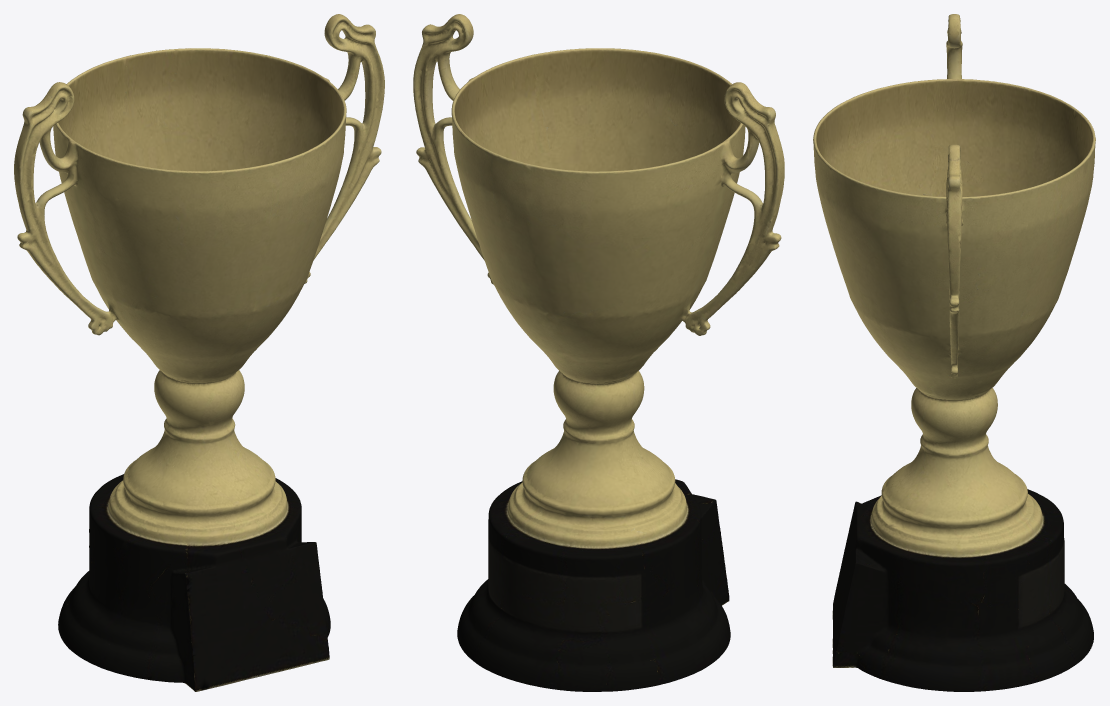
The model's file is trophy.glb.
The picture shows the model from 3 angles, left to right: view 1: azimuth 30°, elevation 25°; view 2: azimuth 150°, elevation 25°; view 3: azimuth 270°, elevation 25°; orthographic projection. The views are drawn at different scales.
Parts seen in each view (by area): view 1: Meshy_AI_Workbench_Victory_0908172055_texture; view 2: Meshy_AI_Workbench_Victory_0908172055_texture; view 3: Meshy_AI_Workbench_Victory_0908172055_texture.
Boxes of the visible parts, bbox=[...] form: Meshy_AI_Workbench_Victory_0908172055_texture: bbox=[14, 14, 384, 691]; Meshy_AI_Workbench_Victory_0908172055_texture: bbox=[413, 14, 784, 691]; Meshy_AI_Workbench_Victory_0908172055_texture: bbox=[813, 14, 1095, 691].
Size of the model in its own units: 1.25 by 1.9 by 0.8727.
Materials: 1 (1 with a texture image).
